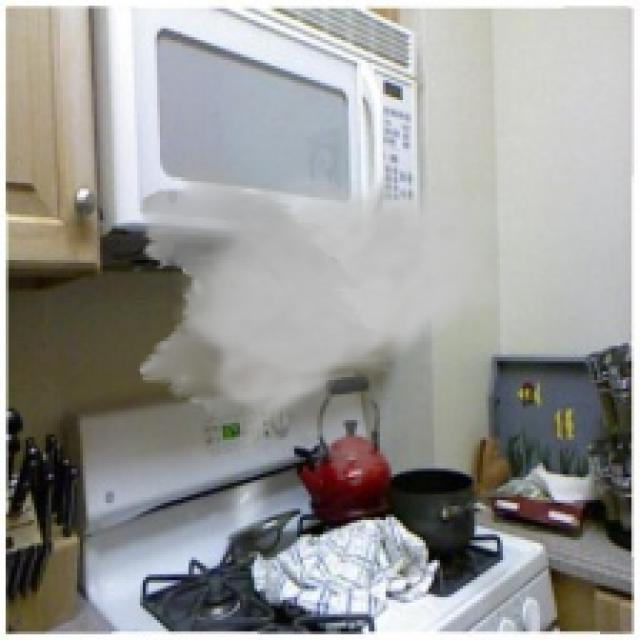smoke: (129, 146, 514, 488)
